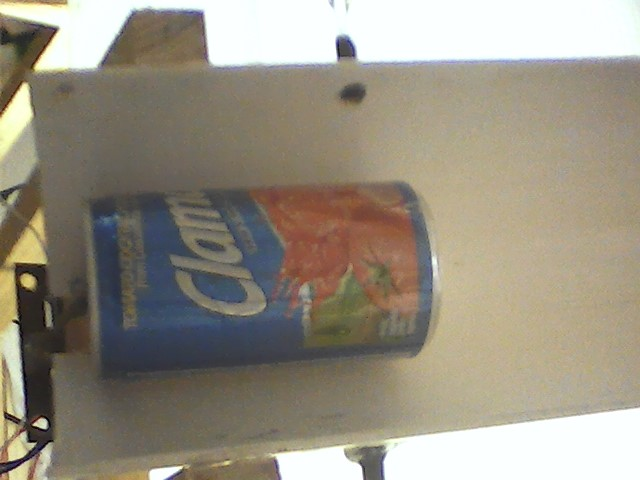lata: (80, 180, 452, 384)
